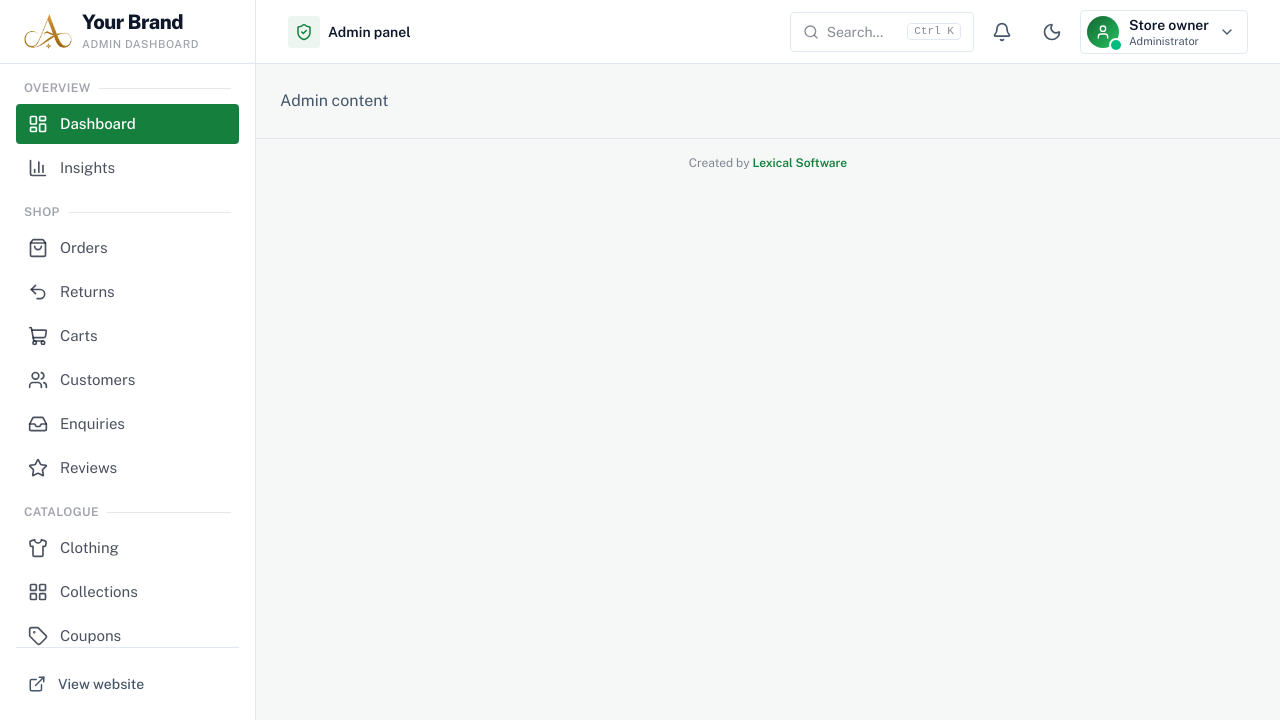
Test: Admin route protection (server side) › panel layout renders the dashboard shell for a signed-in admin
Expected: the text "Admin content" is shown, x1=280 y1=91 x2=388 y2=110
What coordinates should you click on to do the following:
click the button with aria-label "Account menu"
I would click on:
 (1164, 32)
Its box is x1=1080 y1=10 x2=1248 y2=54.
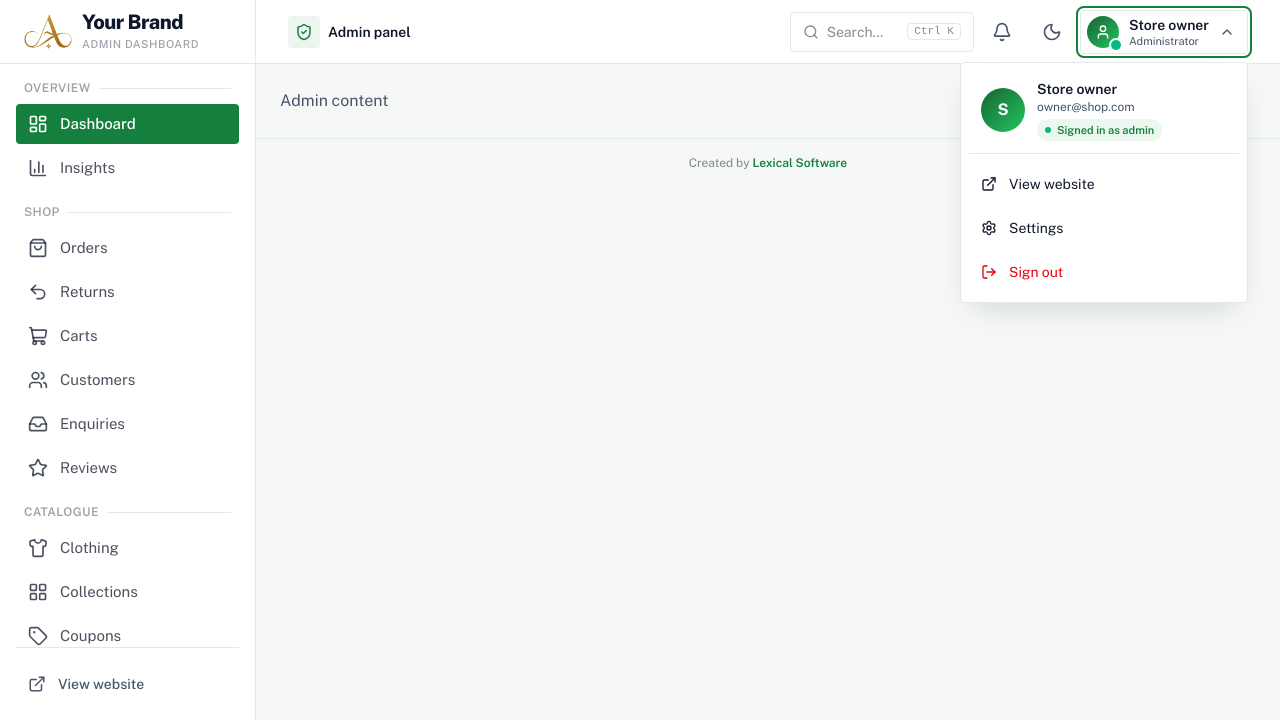
Result: the text "owner@shop.com" is shown at x1=1037 y1=100 x2=1135 y2=114
